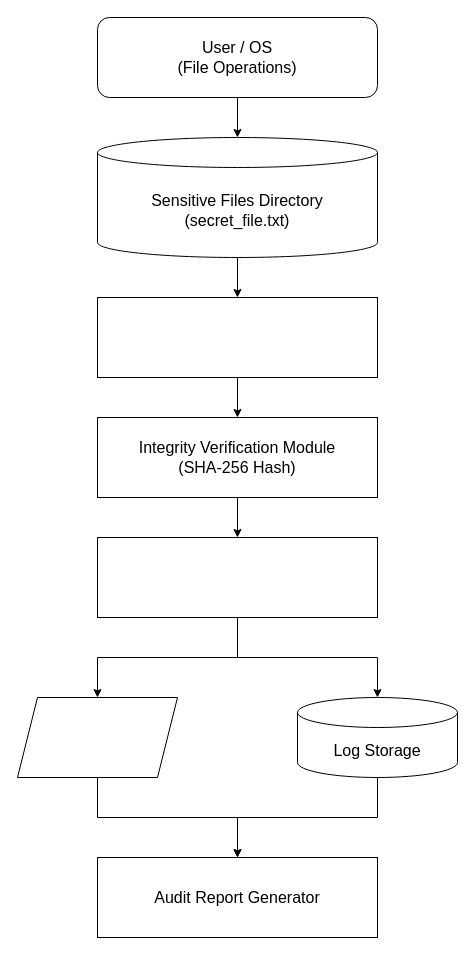
The diagram is 475 pixels wide and 955 high, and some of its shapes have lost their labels. The box of each missing label's shape, as (x1, y1, x2, y2) in pixels:
Alert System: (16, 696, 178, 778)
Authorization & Policy Engine: (96, 536, 378, 618)
File Monitoring Engine (Watchdog): (96, 296, 378, 378)
